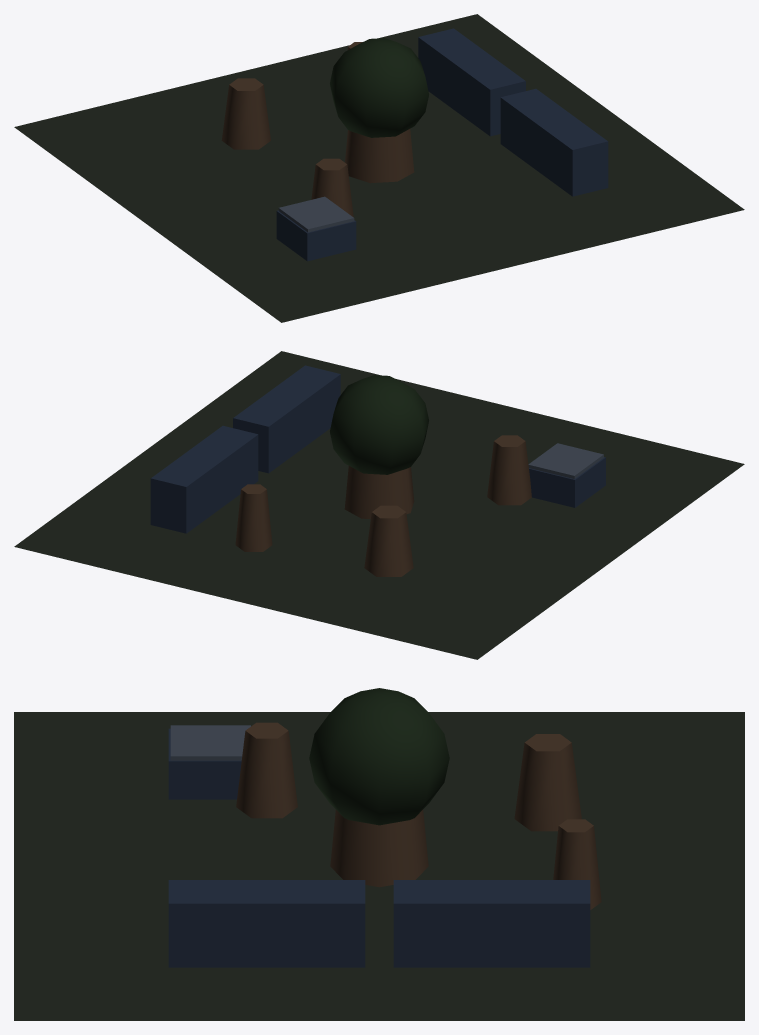
Rendered from lor_03.glb.
The picture shows the model from 3 angles, top to bottom: view 1: azimuth 30°, elevation 25°; view 2: azimuth 150°, elevation 25°; view 3: azimuth 270°, elevation 25°; orthographic projection. The views are drawn at different scales.
Parts seen in each view (by area): view 1: scenario_base_floor, LOR_03, lorencia_spider_ruin_details; view 2: scenario_base_floor, LOR_03, lorencia_spider_ruin_details; view 3: scenario_base_floor, LOR_03, lorencia_spider_ruin_details.
Boxes of the visible parts, x1,y1,x2,y2 form: scenario_base_floor: (14, 14, 744, 322); LOR_03: (221, 28, 608, 261); lorencia_spider_ruin_details: (278, 196, 354, 232); scenario_base_floor: (14, 351, 744, 659); LOR_03: (150, 365, 605, 576); lorencia_spider_ruin_details: (528, 443, 603, 478); scenario_base_floor: (14, 712, 744, 1020); LOR_03: (168, 688, 601, 967); lorencia_spider_ruin_details: (170, 725, 250, 760).
Bounding box in the file's own units: 52 × 13.5 × 52.
